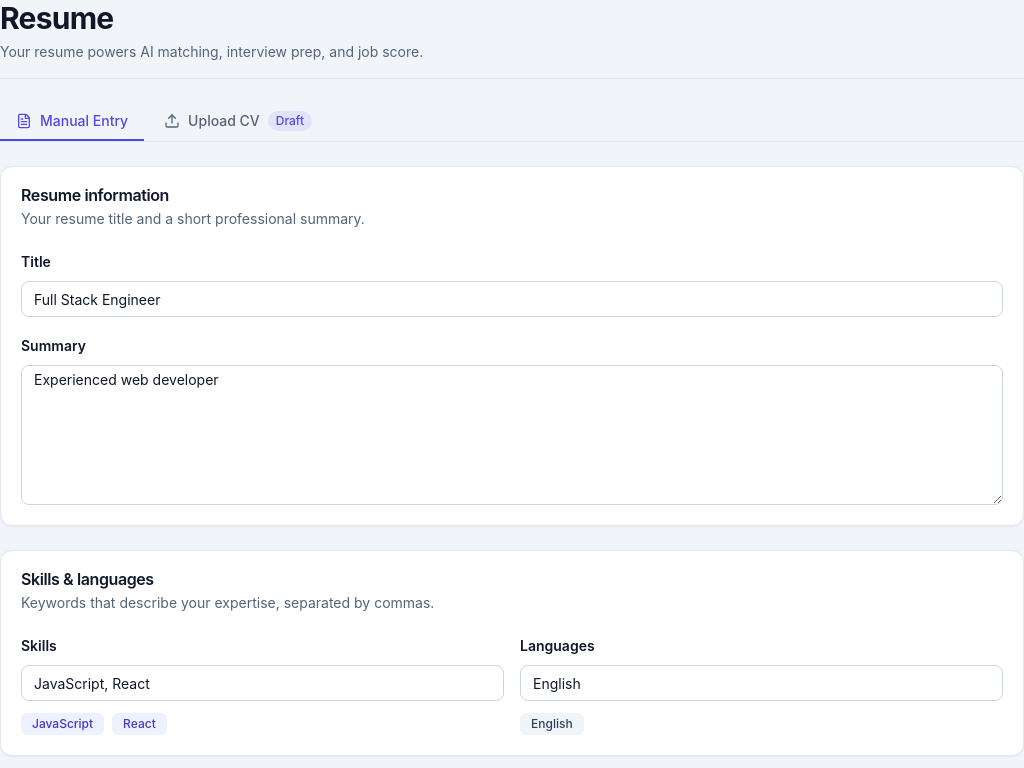
Scenario: ResumePage › renders unique draft IDs when in draft review mode
The image size is (1024, 768).
Click the tab "Upload CV Draft": (238, 122) x1=148 y1=103 x2=328 y2=141
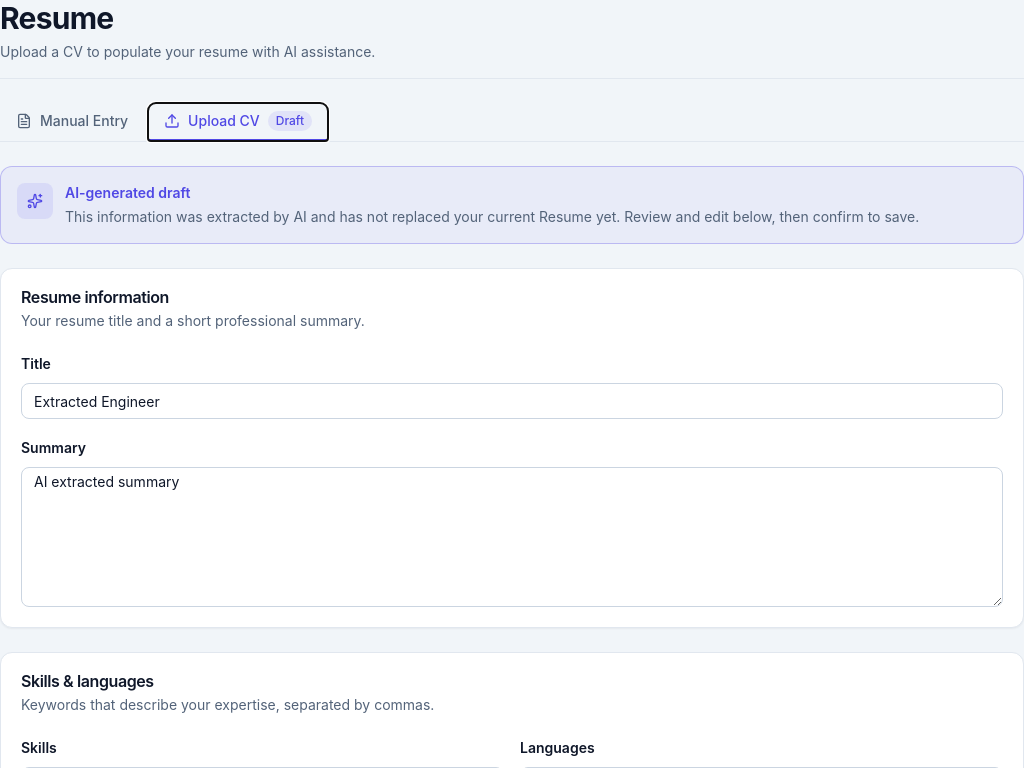
Now the text "AI-generated draft" is shown, box x1=65 y1=184 x2=190 y2=201
